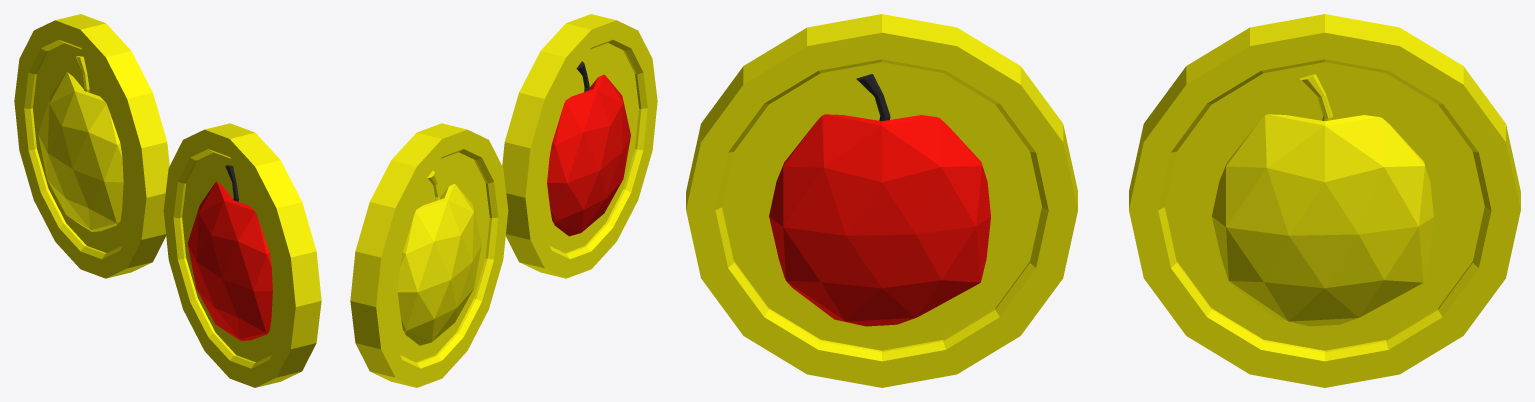
The model's file is COinnnnn.fbx.
3 views of the same model, side by side, from view 1: azimuth 30°, elevation 25°; view 2: azimuth 150°, elevation 25°; view 3: azimuth 270°, elevation 25° (orthographic). The views are drawn at different scales.
Visible parts, largest first — view 1: Circle, Circle.001; view 2: Circle.001, Circle; view 3: Circle, Circle.001.
Part boxes in pixels (x1,y1,x2,y2): Circle: [163, 123, 321, 387]; Circle.001: [14, 14, 169, 278]; Circle.001: [350, 123, 508, 387]; Circle: [502, 14, 657, 278]; Circle: [686, 14, 1077, 387]; Circle.001: [1129, 14, 1520, 387].
Size of the model in its own units: 51.96 by 177 by 377.
